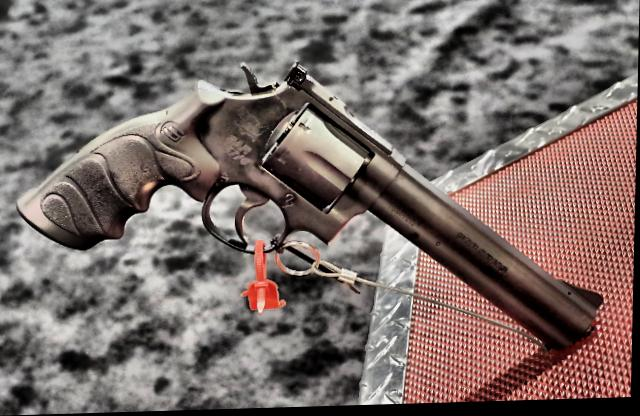pistol: (15, 53, 599, 373)
